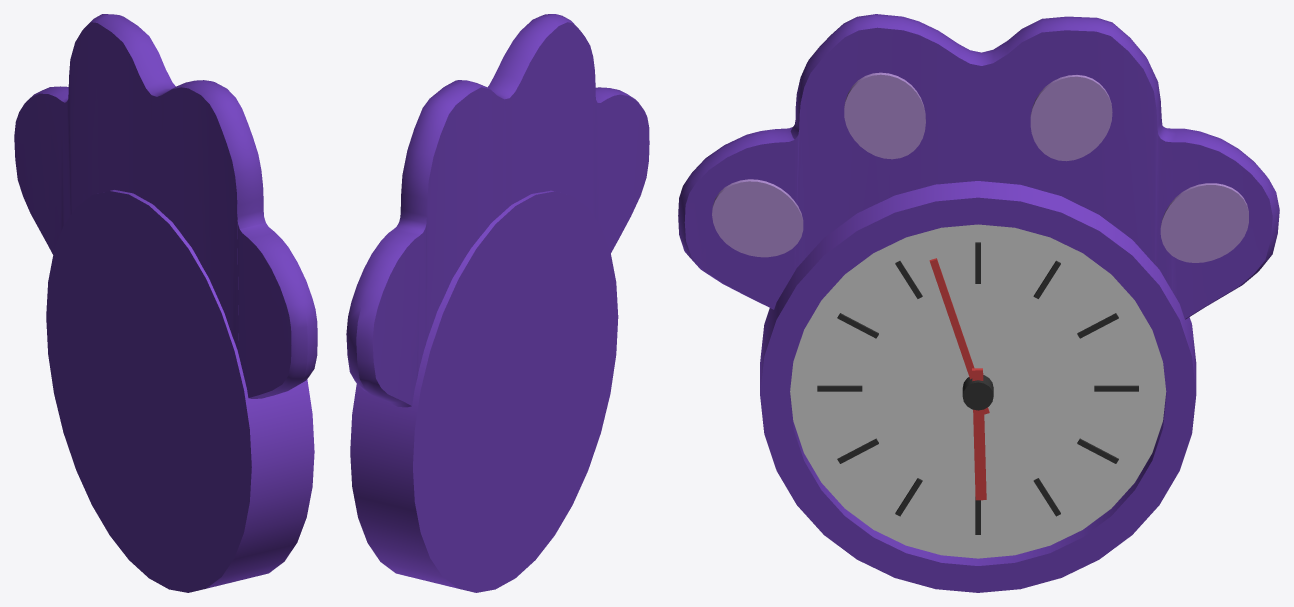
File: Puppy clock.fbx
3 renders of one model, left to right at view 1: azimuth 30°, elevation 25°; view 2: azimuth 150°, elevation 25°; view 3: azimuth 270°, elevation 25°, orthographic. The views are drawn at different scales.
Parts seen in each view (by area): view 1: Puppy clock; view 2: Puppy clock; view 3: Puppy clock.
Part boxes in pixels (box(x1,y1,x2,y2)): Puppy clock: box(14, 14, 317, 592); Puppy clock: box(346, 14, 649, 592); Puppy clock: box(678, 14, 1279, 592).
Size of the model in its own units: 23.66 by 181 by 179.
Materials: 1 (1 with a texture image).
